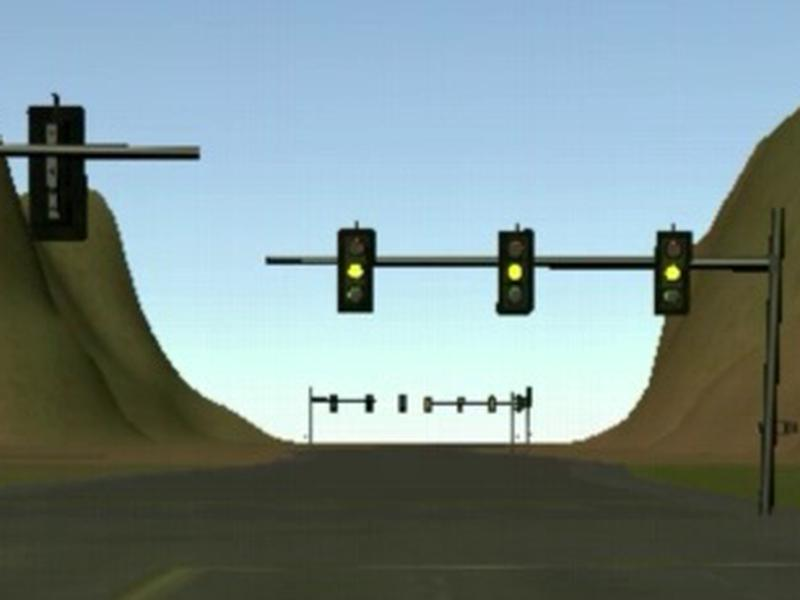Yellow: (337, 227, 375, 313), (654, 231, 692, 316), (498, 228, 533, 315)
